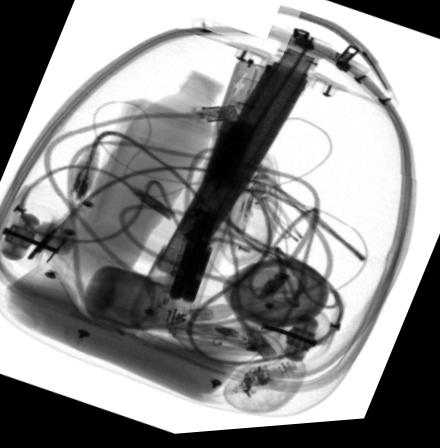Baton: (160, 52, 281, 310)
